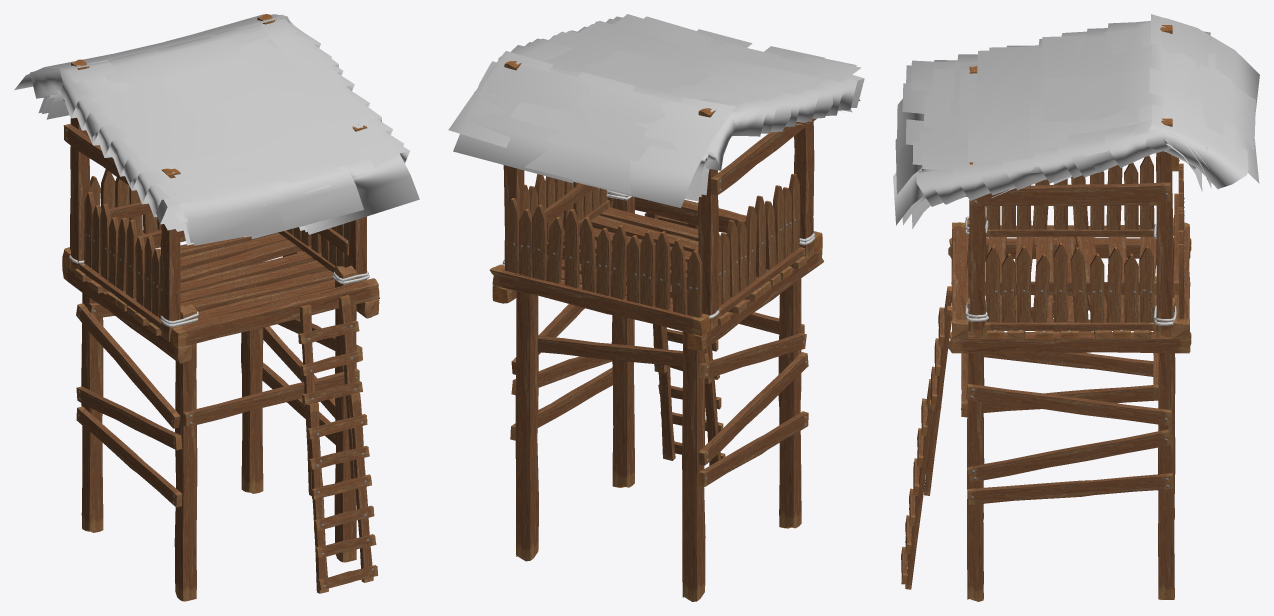
Rendered from SM_Farm_Gobold_Watchtower.fbx.
3 renders of one model, left to right at view 1: azimuth 30°, elevation 25°; view 2: azimuth 150°, elevation 25°; view 3: azimuth 270°, elevation 25°, orthographic. The views are drawn at different scales.
Parts seen in each view (by area): view 1: SM_Gobolt_Watchtower_01_LOD0; view 2: SM_Gobolt_Watchtower_01_LOD0; view 3: SM_Gobolt_Watchtower_01_LOD0.
Boxes of the visible parts, bbox=[...] form: SM_Gobolt_Watchtower_01_LOD0: bbox=[14, 14, 419, 601]; SM_Gobolt_Watchtower_01_LOD0: bbox=[448, 14, 864, 601]; SM_Gobolt_Watchtower_01_LOD0: bbox=[893, 14, 1259, 601].
Size of the model in its own units: 382 by 692 by 472.
